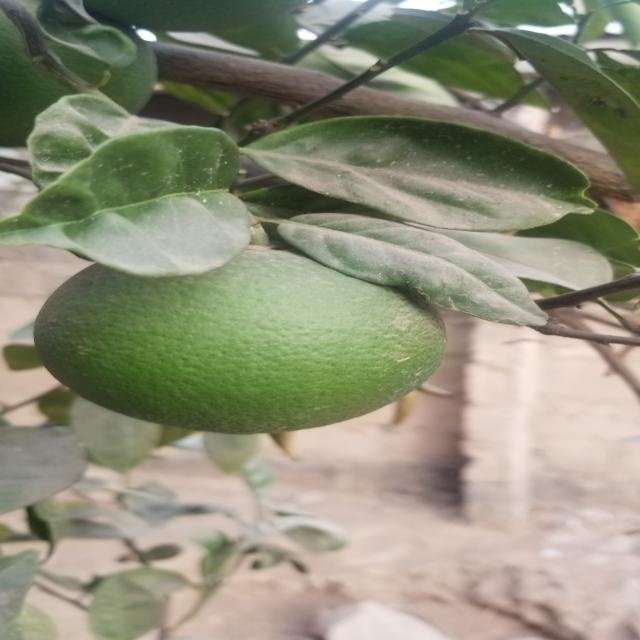agrume: (39, 259, 441, 427)
